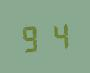four: (45, 20, 70, 50)
nine: (19, 22, 44, 52)
